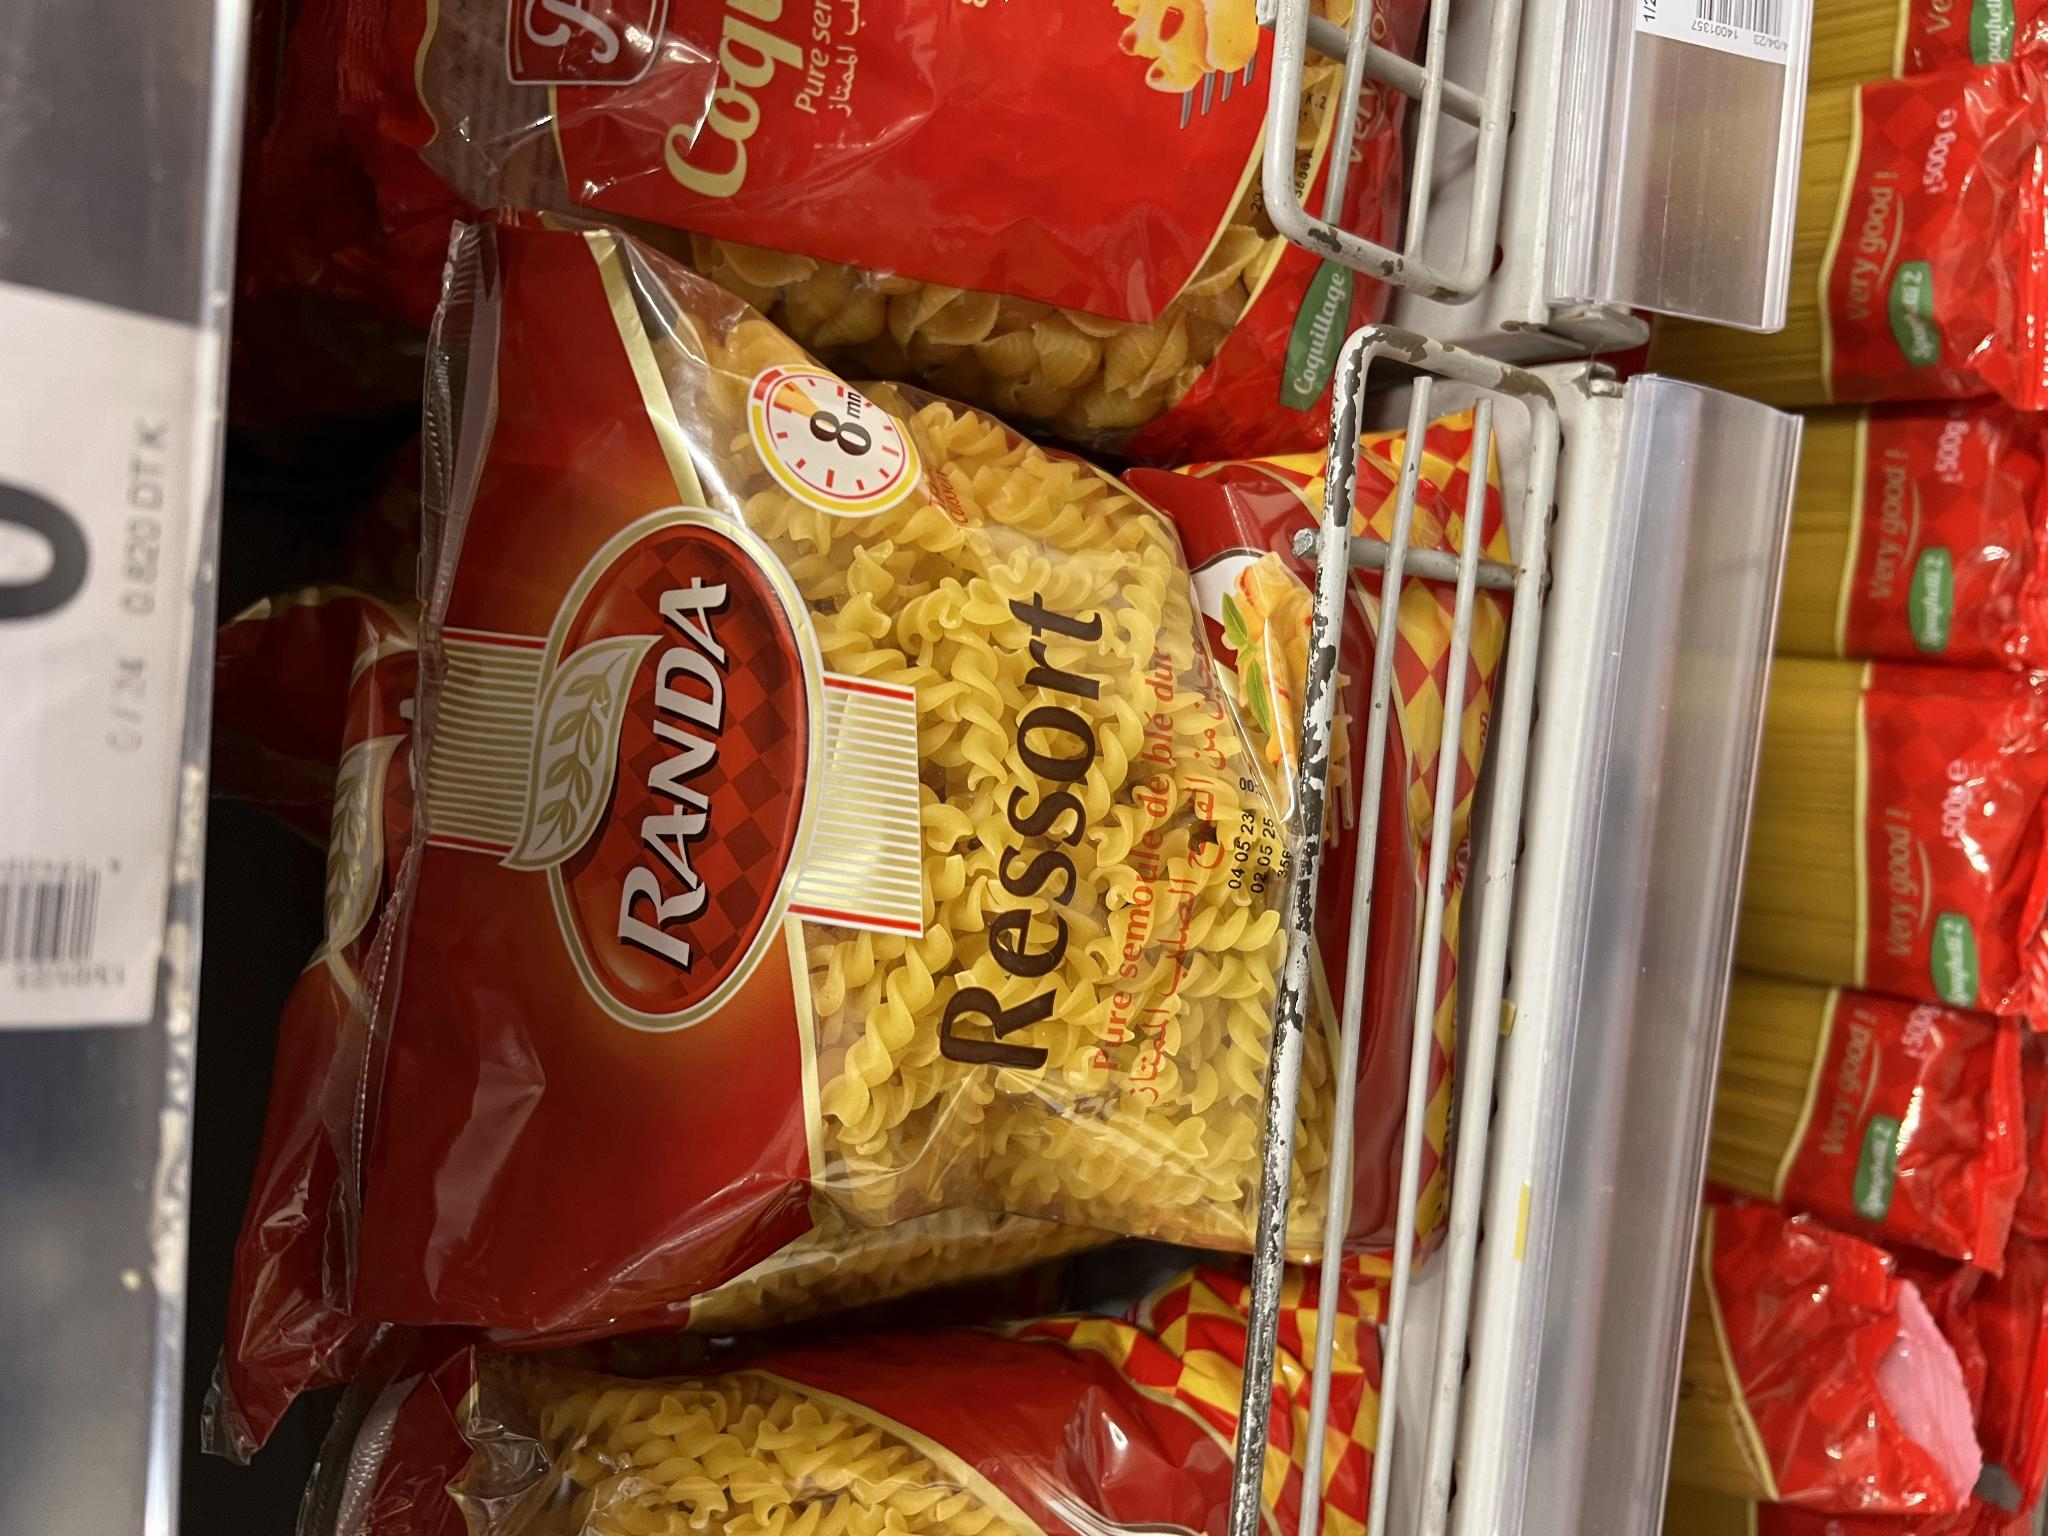Ressort: (355, 244, 1440, 1334)
